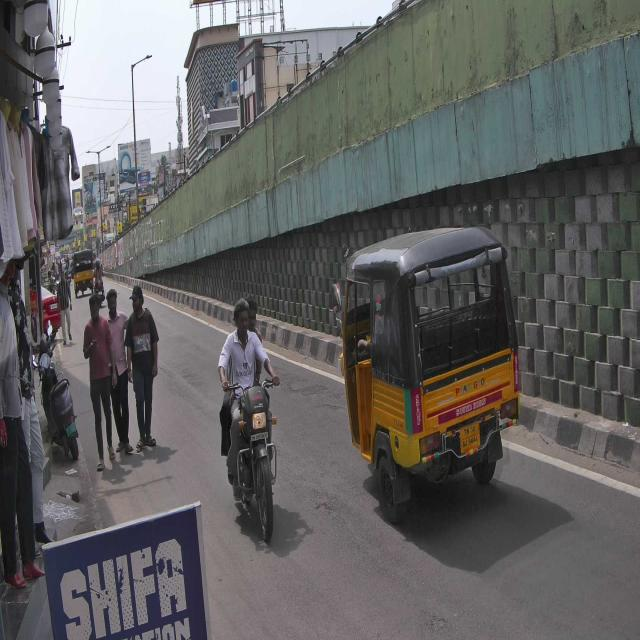double_rider: (218, 292, 281, 551)
